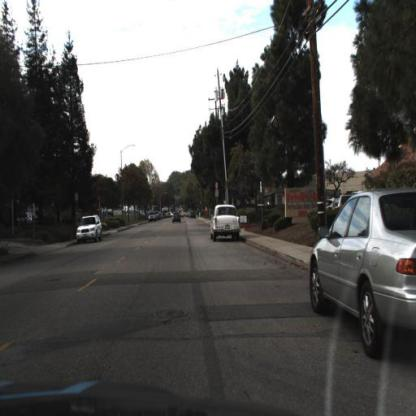car: (307, 188, 416, 346), (210, 202, 242, 245), (210, 204, 241, 240), (75, 216, 108, 246), (78, 213, 105, 242), (170, 209, 185, 228), (146, 208, 161, 224)
